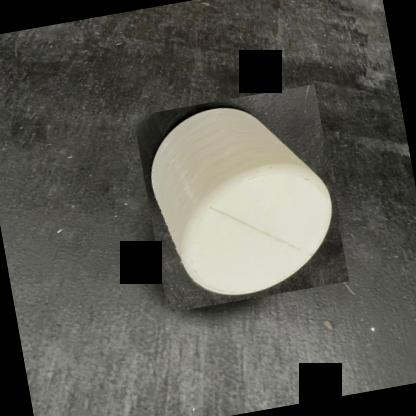white cylinder: (133, 83, 349, 312)
